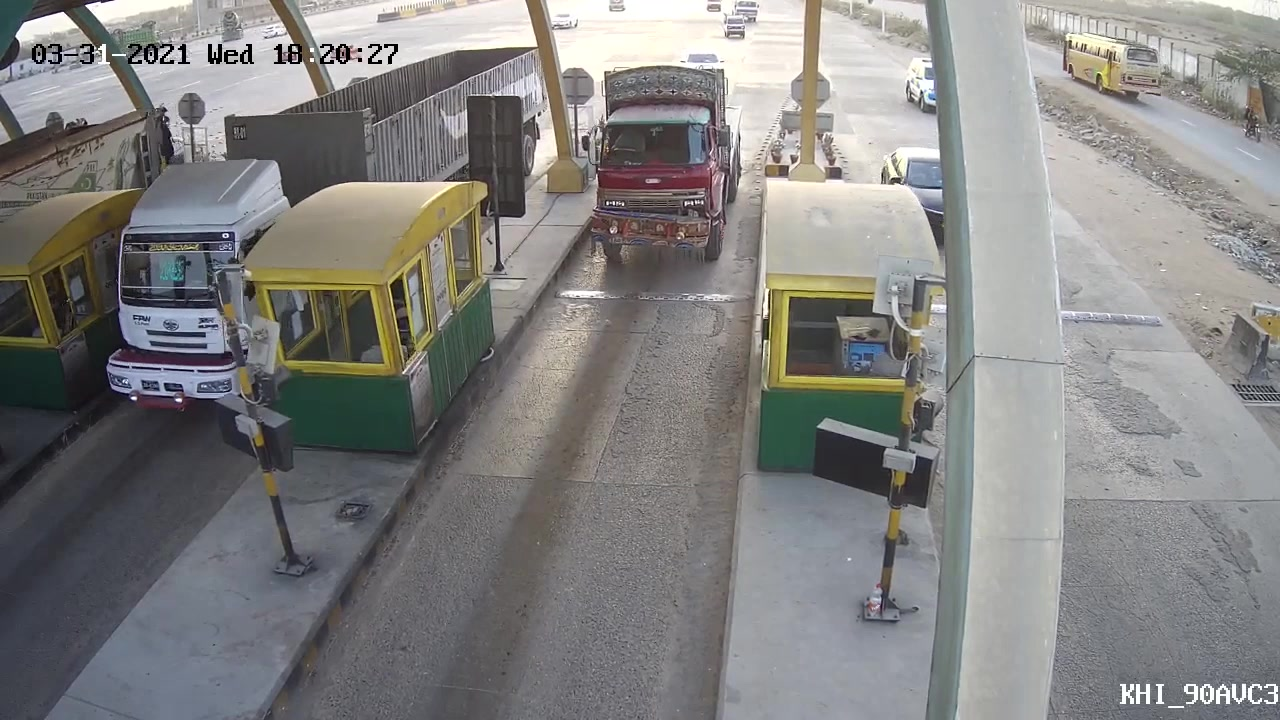F6: (569, 48, 748, 272)
